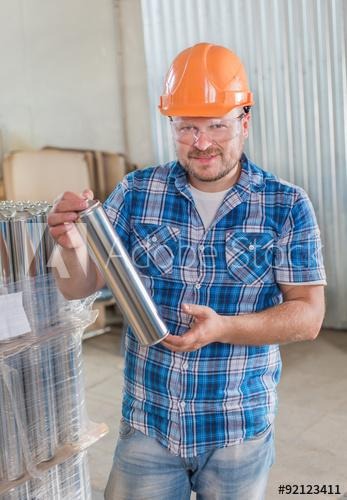helmet: (159, 42, 256, 120)
